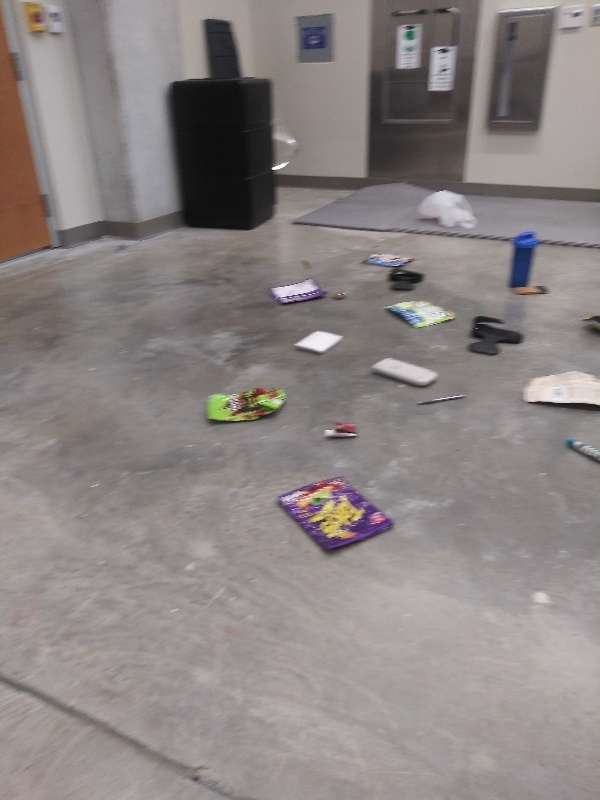bag: (272, 470, 399, 557), (201, 385, 294, 426), (521, 370, 600, 411), (383, 298, 459, 329), (264, 275, 331, 308), (361, 248, 420, 270)
